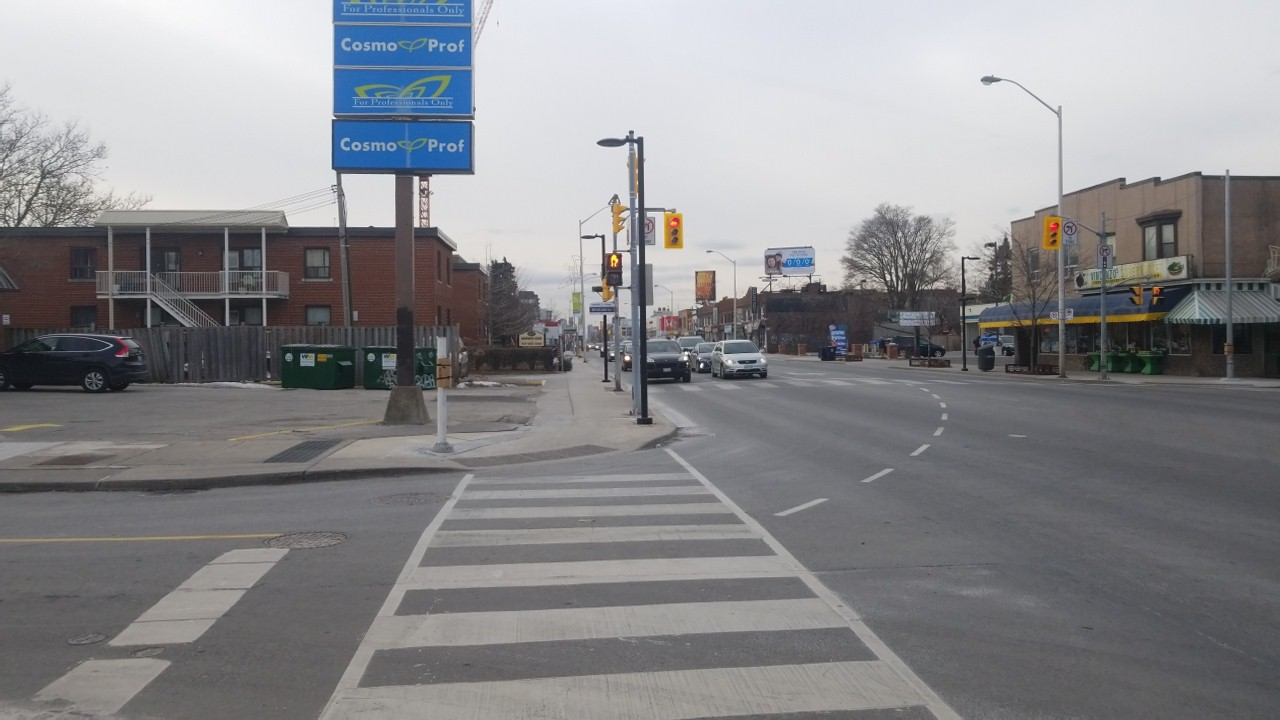light: (601, 251, 623, 287)
